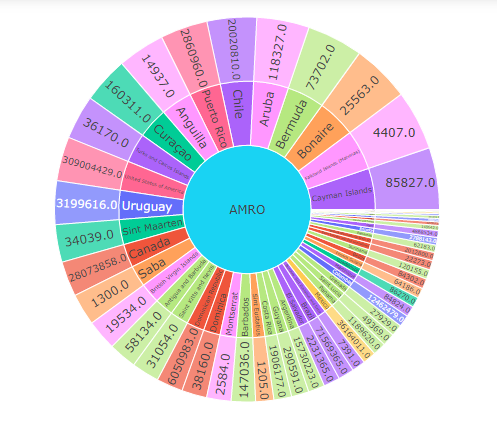

The page's visual inventory and layout, read from the dashboard file:
{"tool":"tableau","page":{"name":"Top cases by region","canvas":[650,860],"ordinal":10},"visuals":[{"type":"worksheet","title":"Top Cases by Region","mark":"Automatic","rows":["Cases - cumulative total"],"cols":["WHO Region","Name"],"box":[8,8,634,844]}]}

Visuals, with their boxes on the page's 650x860 design canvas (x1, y1, x2, y2). These are canvas units, not pixel positions in the 497x430 screenshot, which may show the page scaled, cropped or inside an application window:
"Top Cases by Region" worksheet: bbox(8, 8, 642, 852)
